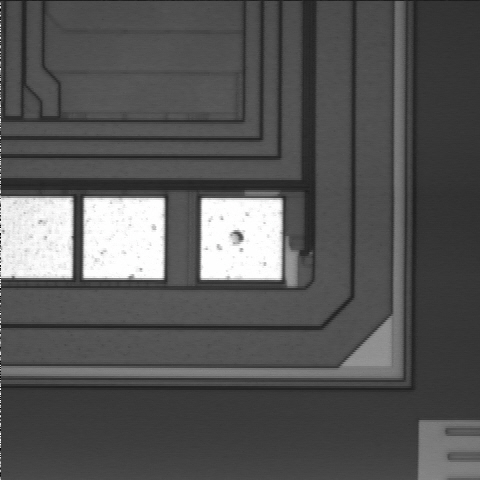pad: (83, 198, 165, 280), (201, 198, 282, 280)
